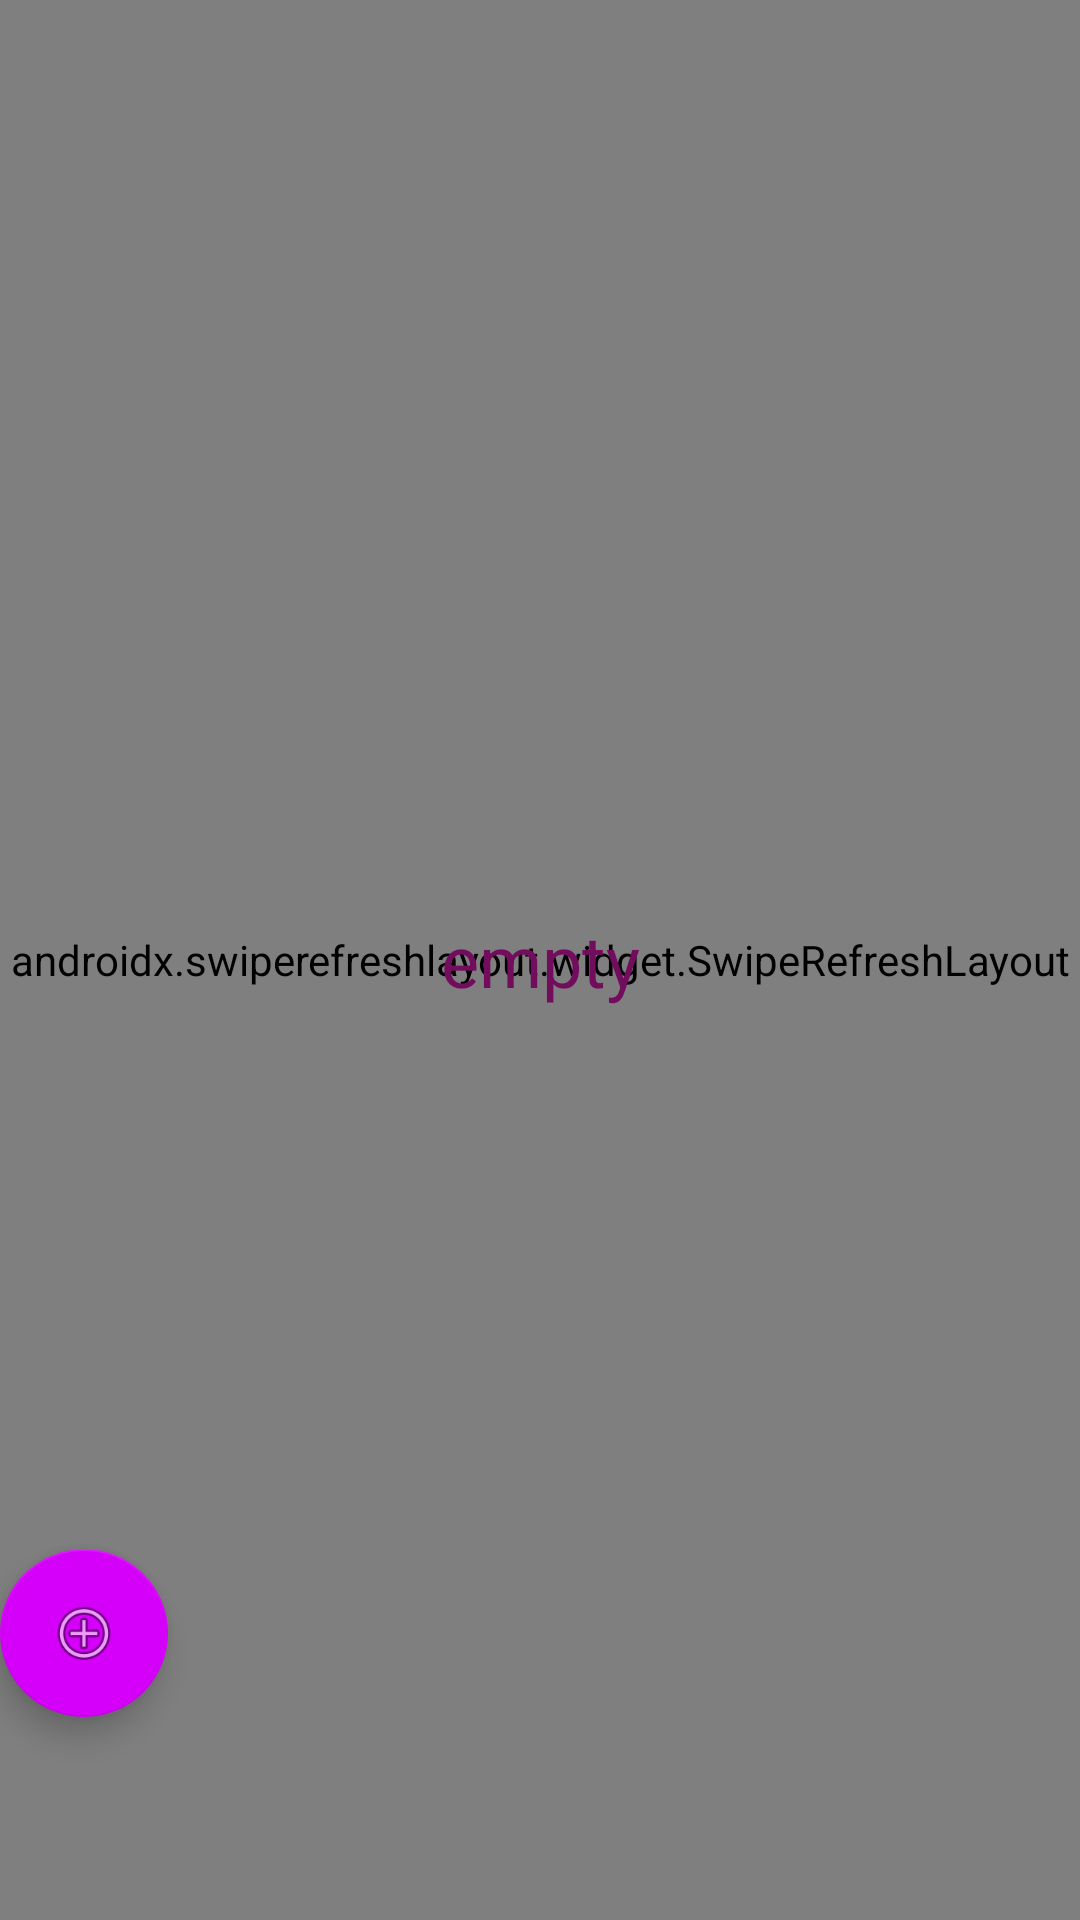

Locate icon controls on the screen. Image size 1080px x 1920px, boxes as [x1,y1,x2,y2].
add: [0,1549,168,1717]
